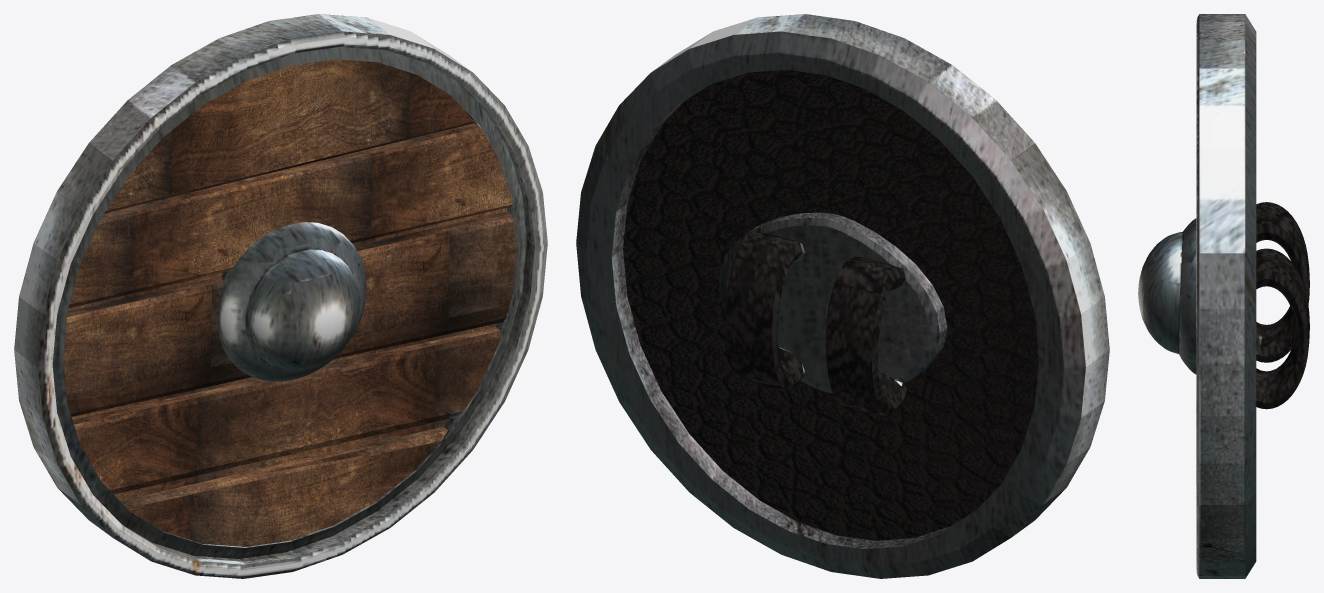
File: Escudo de Madeira.fbx
The picture shows the model from 3 angles, left to right: view 1: azimuth 30°, elevation 25°; view 2: azimuth 150°, elevation 25°; view 3: azimuth 270°, elevation 25°; orthographic projection. The views are drawn at different scales.
Visible parts, largest first — view 1: Sphere; view 2: Sphere; view 3: Sphere.
Part boxes in pixels (x1,y1,x2,y2): Sphere: (14, 14, 547, 578); Sphere: (576, 14, 1109, 578); Sphere: (1138, 14, 1309, 578).
Bounding box in the file's own units: 1850 × 1850 × 563.
3 materials, 3 textured.
